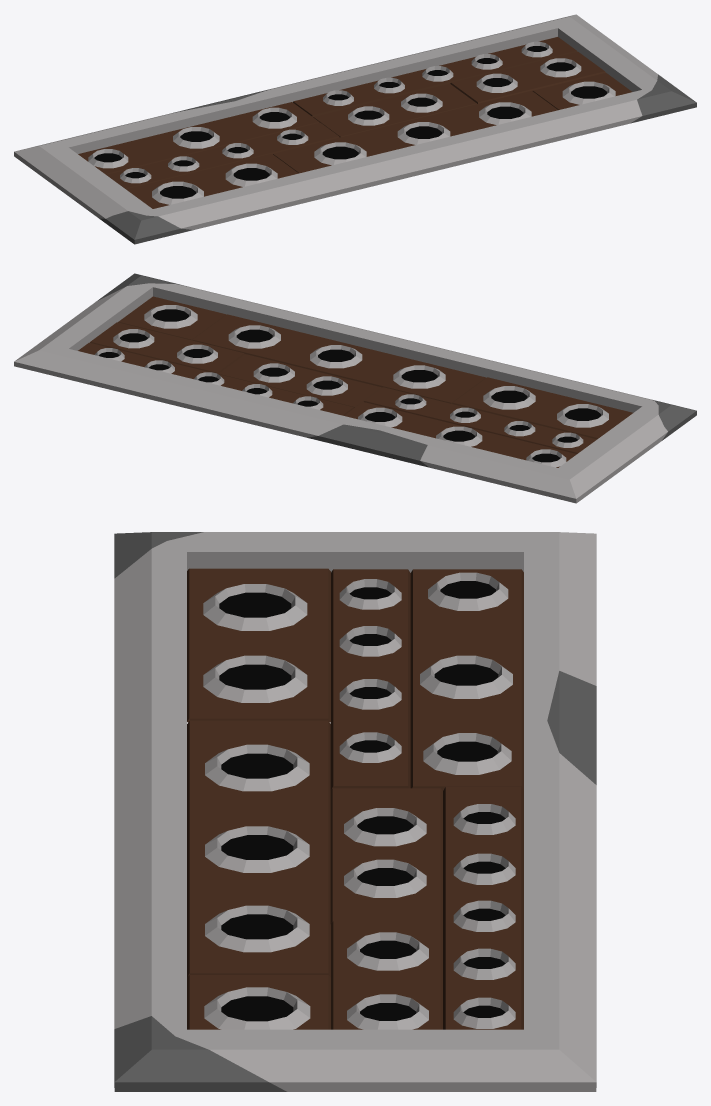
File: SMLWoodenBoardTrap.fbx
The picture shows the model from 3 angles, top to bottom: view 1: azimuth 30°, elevation 25°; view 2: azimuth 150°, elevation 25°; view 3: azimuth 270°, elevation 25°; orthographic projection. The views are drawn at different scales.
Visible parts, largest first — view 1: SMLWoodenBoardTrap; view 2: SMLWoodenBoardTrap; view 3: SMLWoodenBoardTrap.
Part boxes in pixels (x1,y1,x2,y2): SMLWoodenBoardTrap: (14, 14, 696, 244); SMLWoodenBoardTrap: (14, 273, 696, 503); SMLWoodenBoardTrap: (114, 532, 596, 1091).
Size of the model in its own units: 141 by 3.18 by 52.56.
